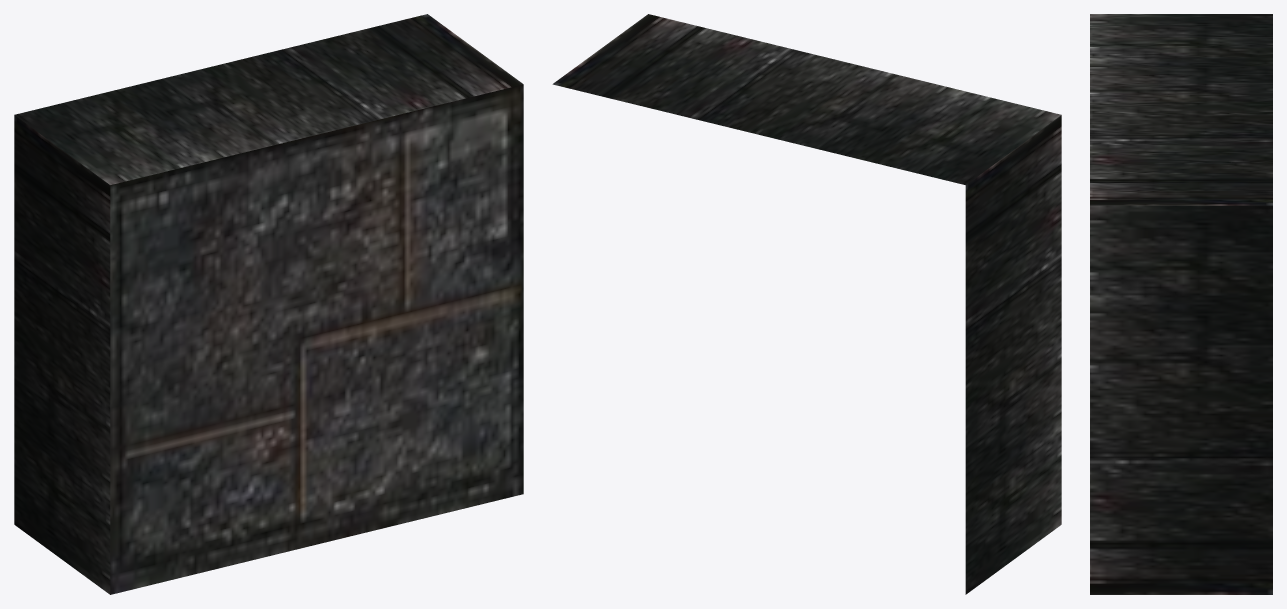
The picture shows the model from 3 angles, left to right: view 1: azimuth 30°, elevation 25°; view 2: azimuth 150°, elevation 25°; view 3: azimuth 270°, elevation 25°; orthographic projection. The views are drawn at different scales.
Parts seen in each view (by area): view 1: model_Object64; view 2: model_Object64; view 3: model_Object64.
Part boxes in pixels (x1,y1,x2,y2): model_Object64: [14, 14, 523, 594]; model_Object64: [552, 14, 1061, 594]; model_Object64: [1090, 14, 1272, 594].
Bounding box in the file's own units: 1.25 × 1.18 × 0.5015.
1 material, 1 textured.
